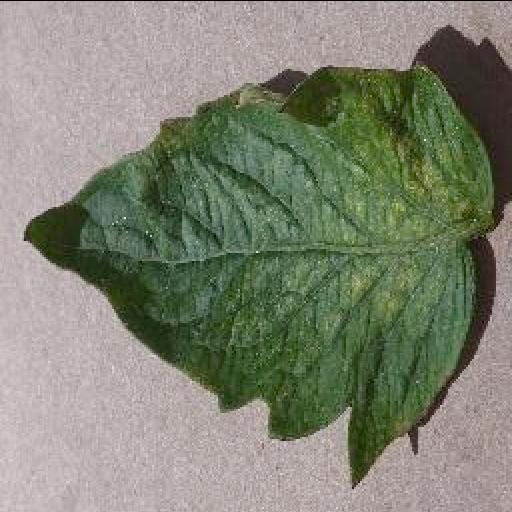disease_tomato: (20, 54, 492, 490)
